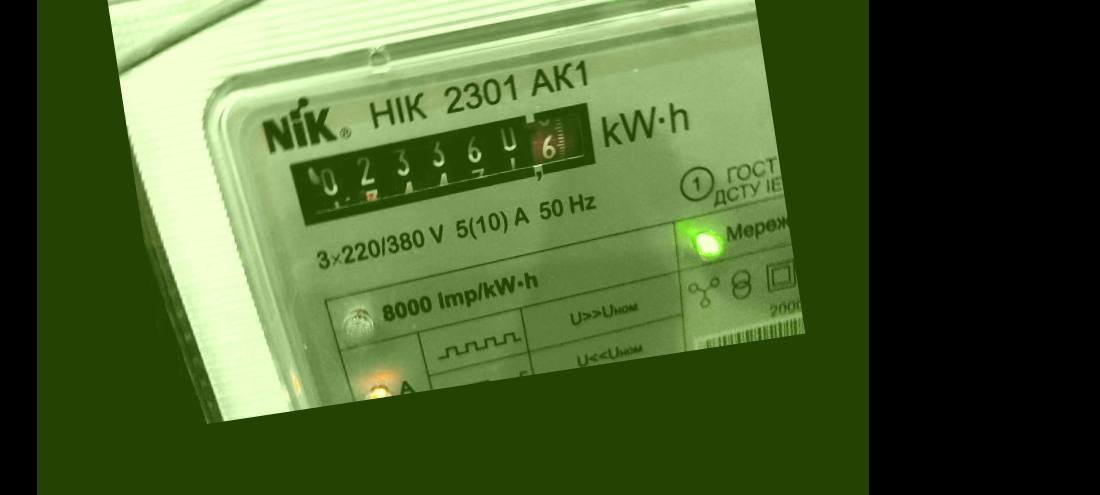0: (316, 161, 343, 198), (495, 120, 521, 154)
2: (354, 151, 378, 186)
3: (426, 133, 450, 168), (389, 145, 413, 178)
6: (536, 127, 562, 163), (461, 129, 486, 165)
screen: (270, 90, 618, 234)
